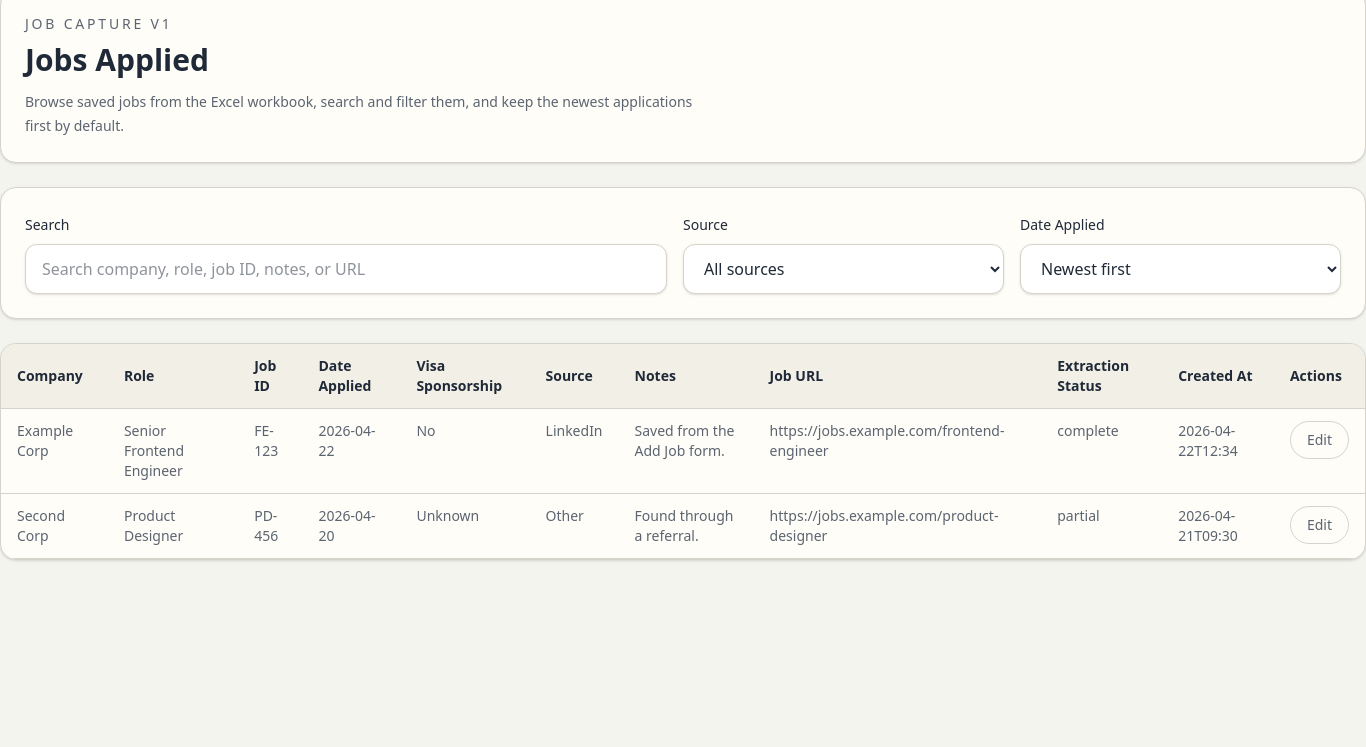
Test case: JobsPage › edits and saves a row while preserving non-edited rows
The width and height of the screenshot is (1366, 747).
Check: the text "Example Corp" is shown, box [1,408,108,494]
Click the button "Edit" in the row of "Example Corp". click: (1319, 440)
box: [1290,421,1349,459]
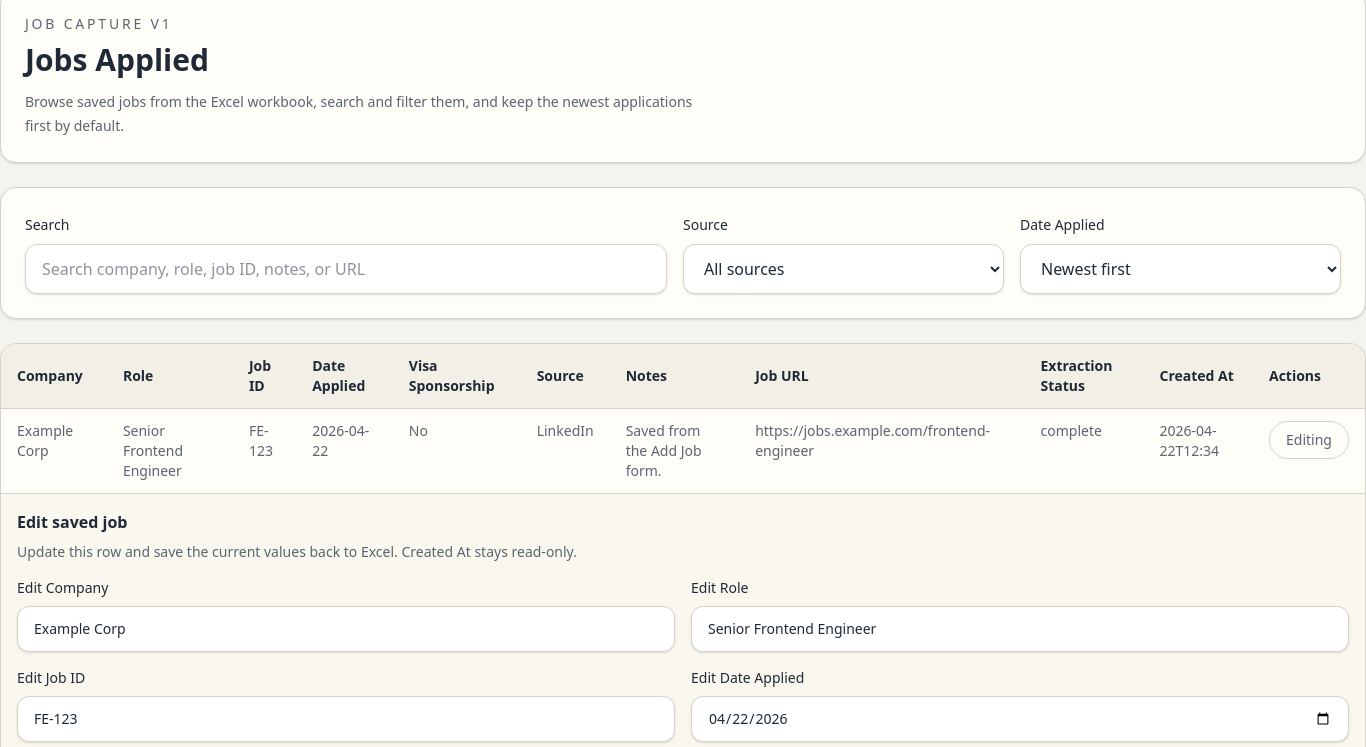
Replace the text in the field labelled "Edit Role" with "Staff Frontend Engineer". click: (1020, 629)
box: [691,606,1349,652]
(page scrolled)
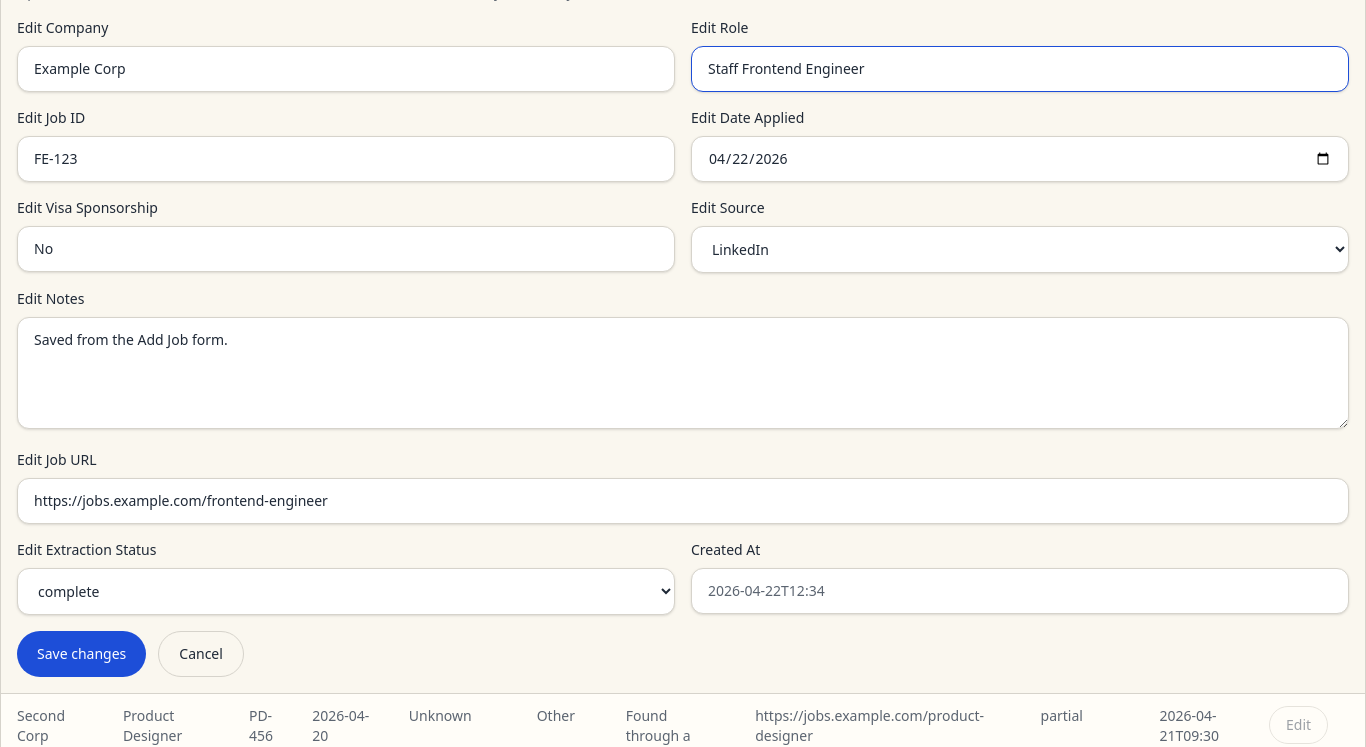
Replace the text in the text box labelled "Edit Notes" with "Corrected after reviewing the saved row.". click: (683, 373)
box: [17,317,1349,429]
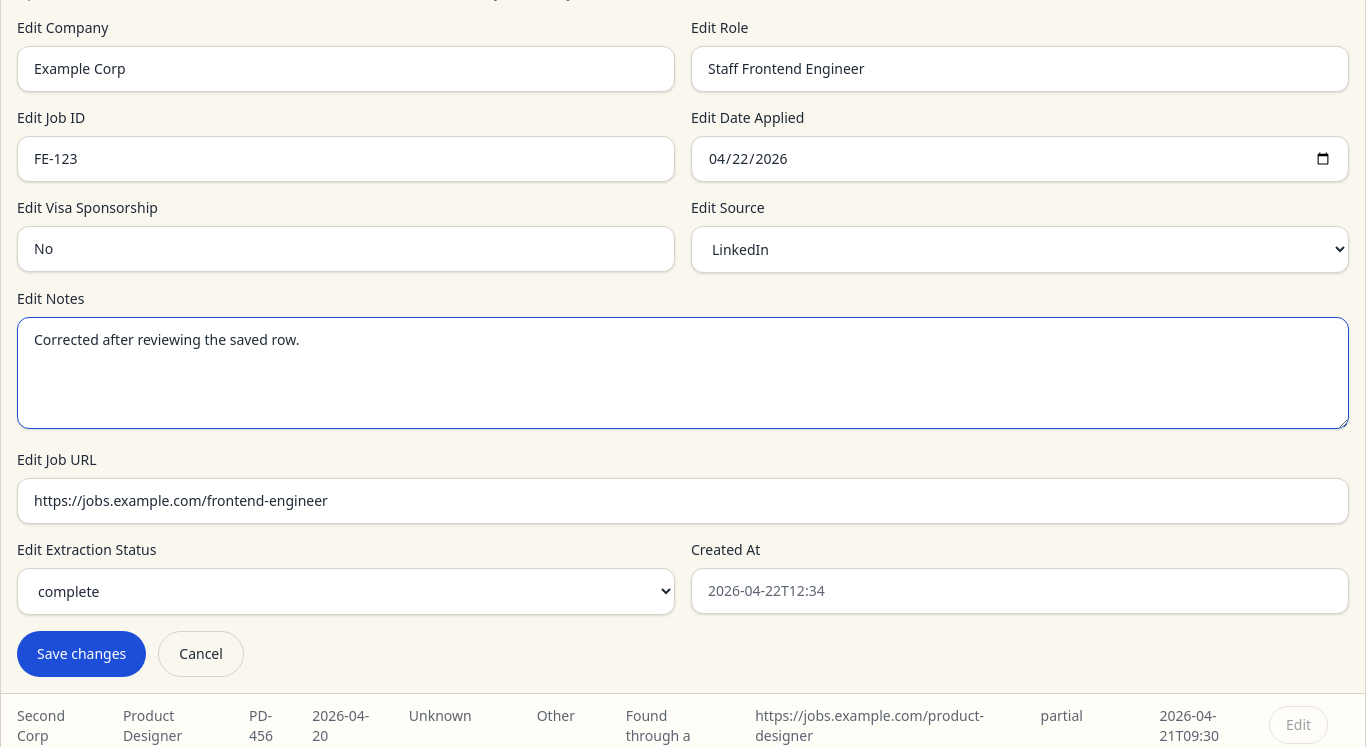
Click the button "Save changes". click: (82, 654)
box: [17,631,146,677]
(page scrolled)
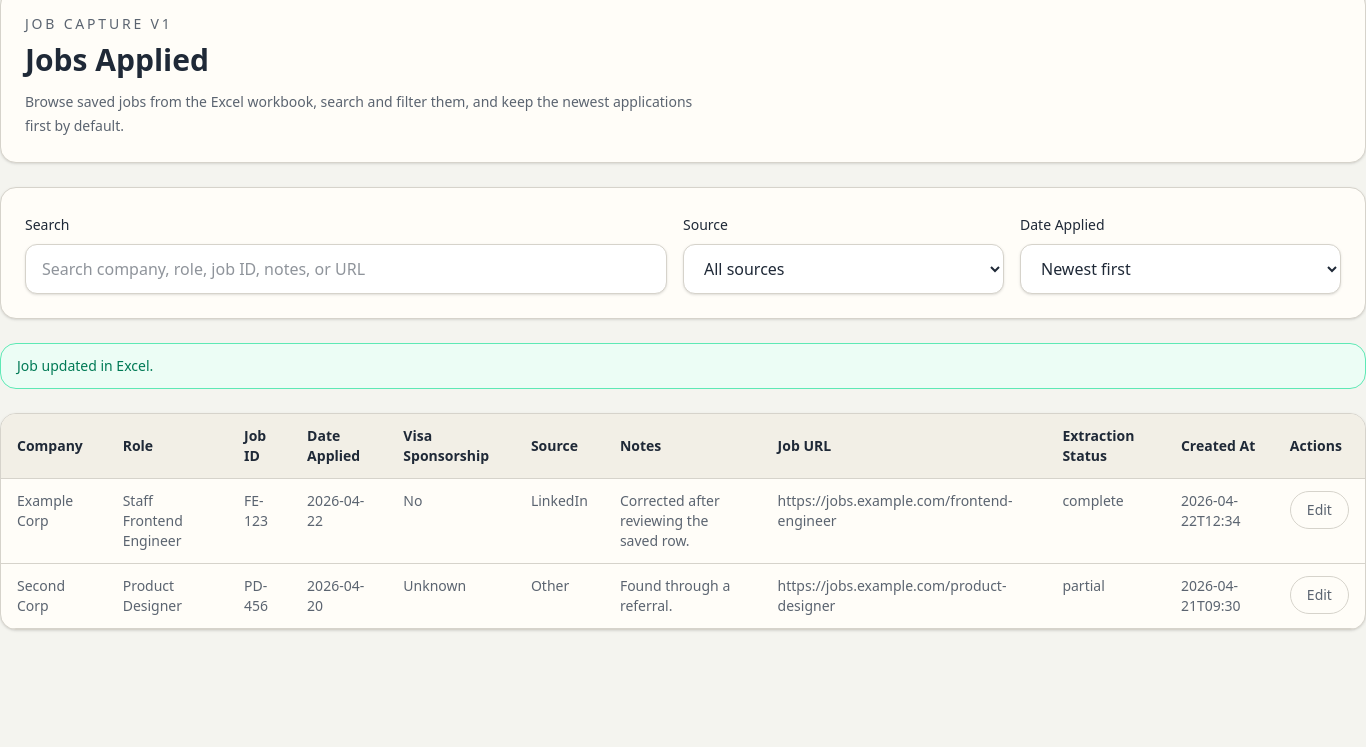
Check: the text "Second Corp" is shown, box [1,564,107,628]
Check: the text "Job updated in Excel." is shown, box [0,343,1365,389]
Check: the link "Staff Frontend Engineer" is shown, box [123,491,183,550]
